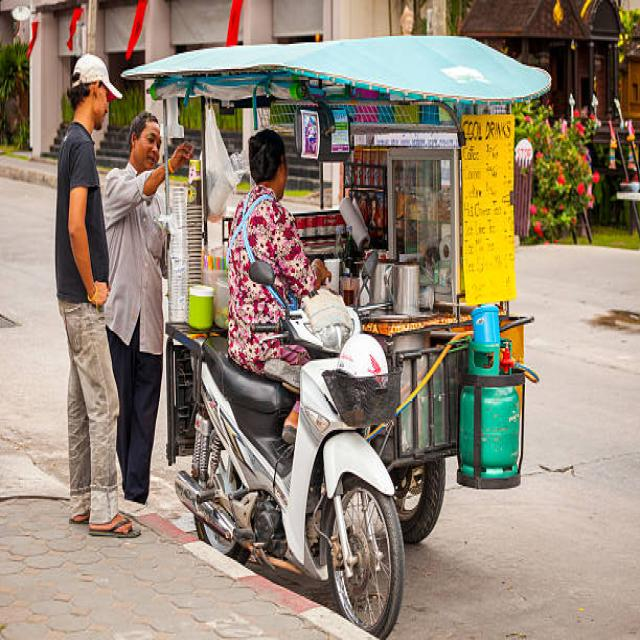Emperan: (120, 44, 558, 640)
